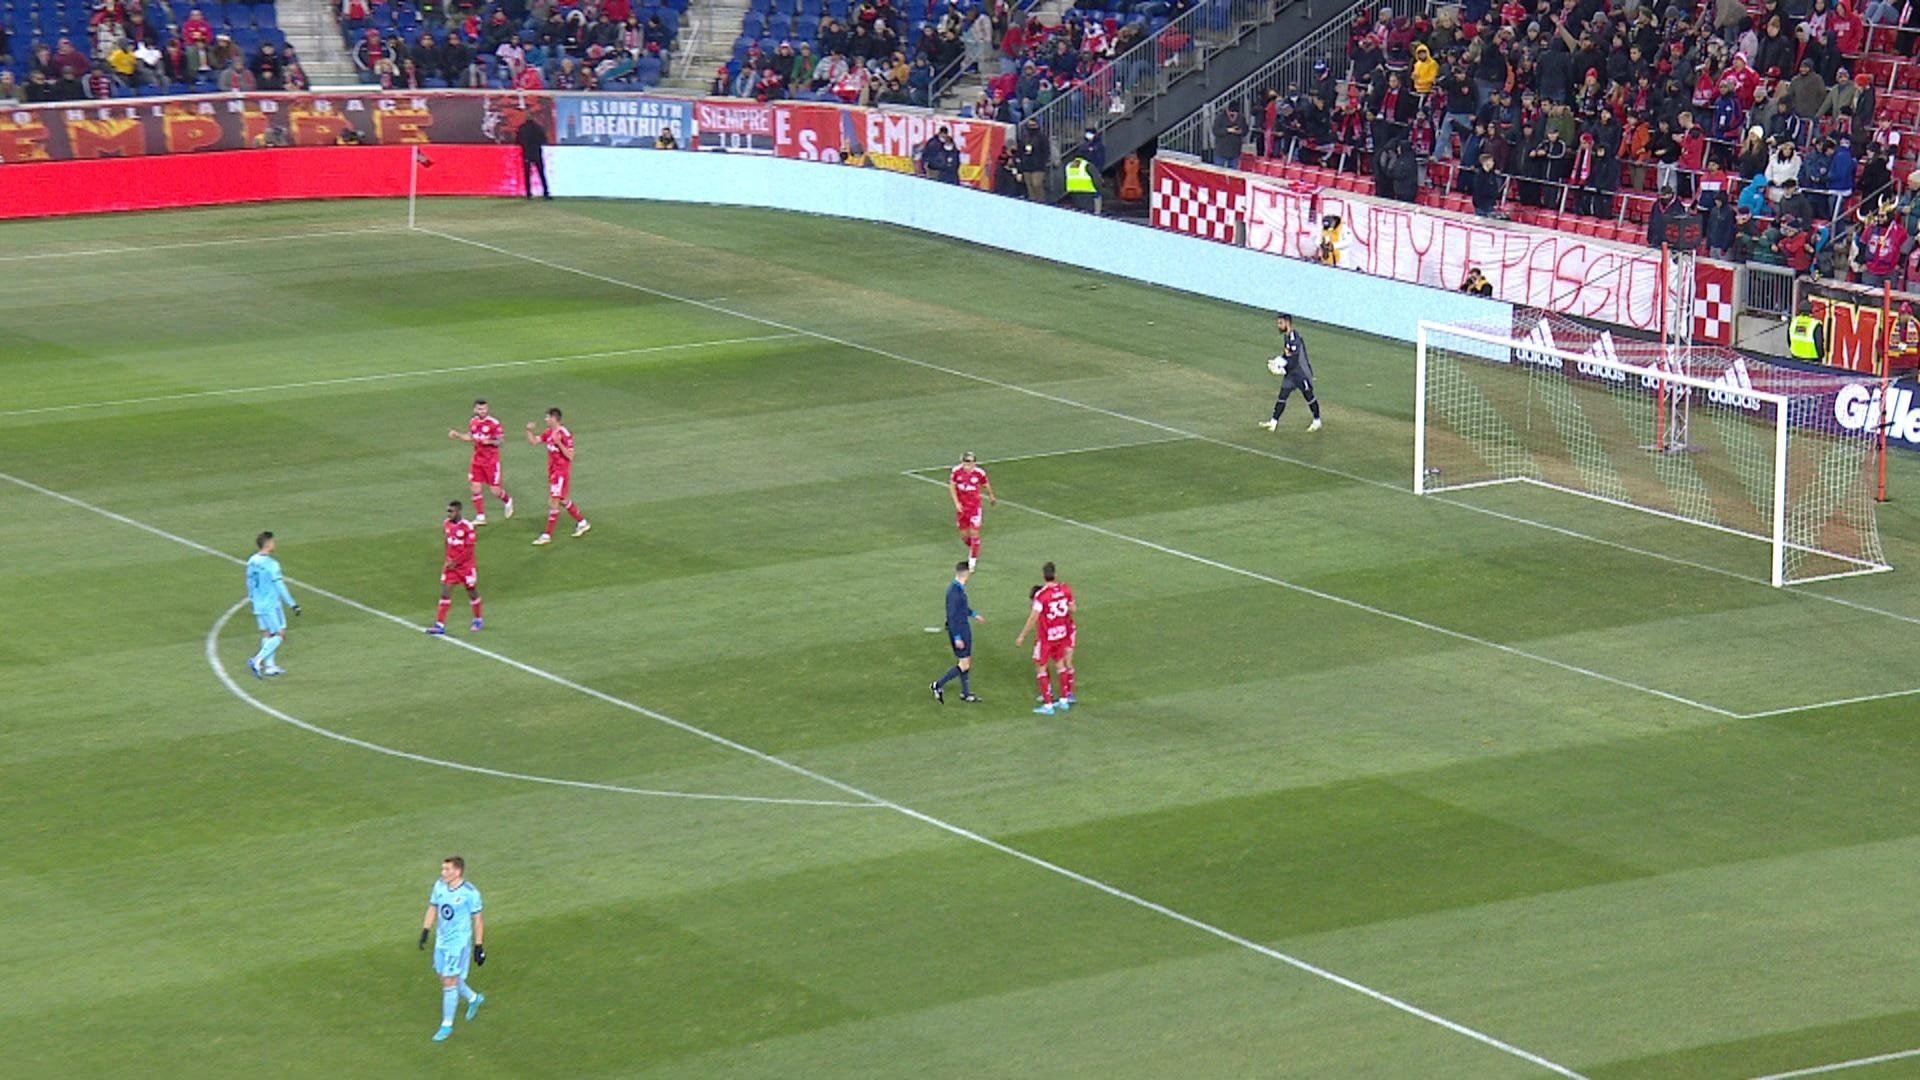football: (1266, 358, 1283, 374)
